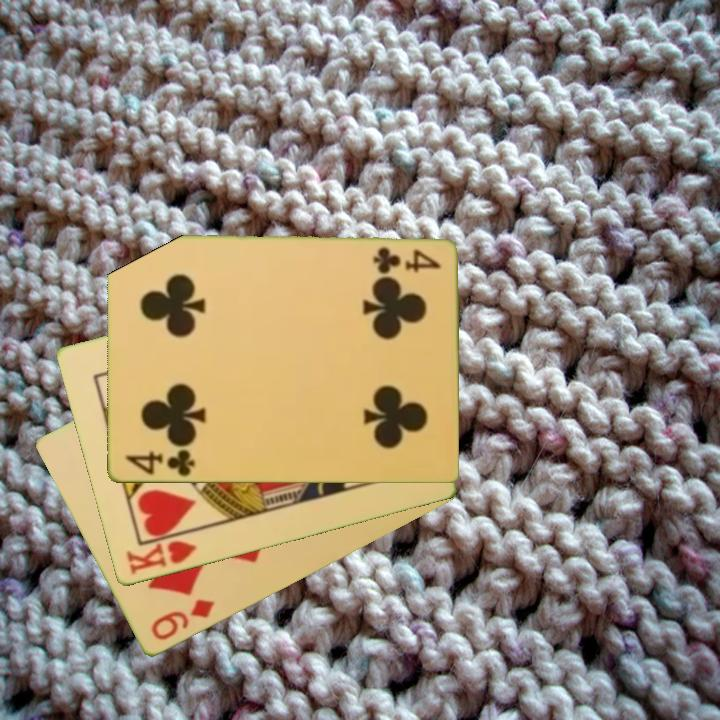4c: (122, 446, 197, 479), (369, 245, 443, 274)
9d: (147, 596, 218, 644)
Kh: (122, 527, 201, 578)
